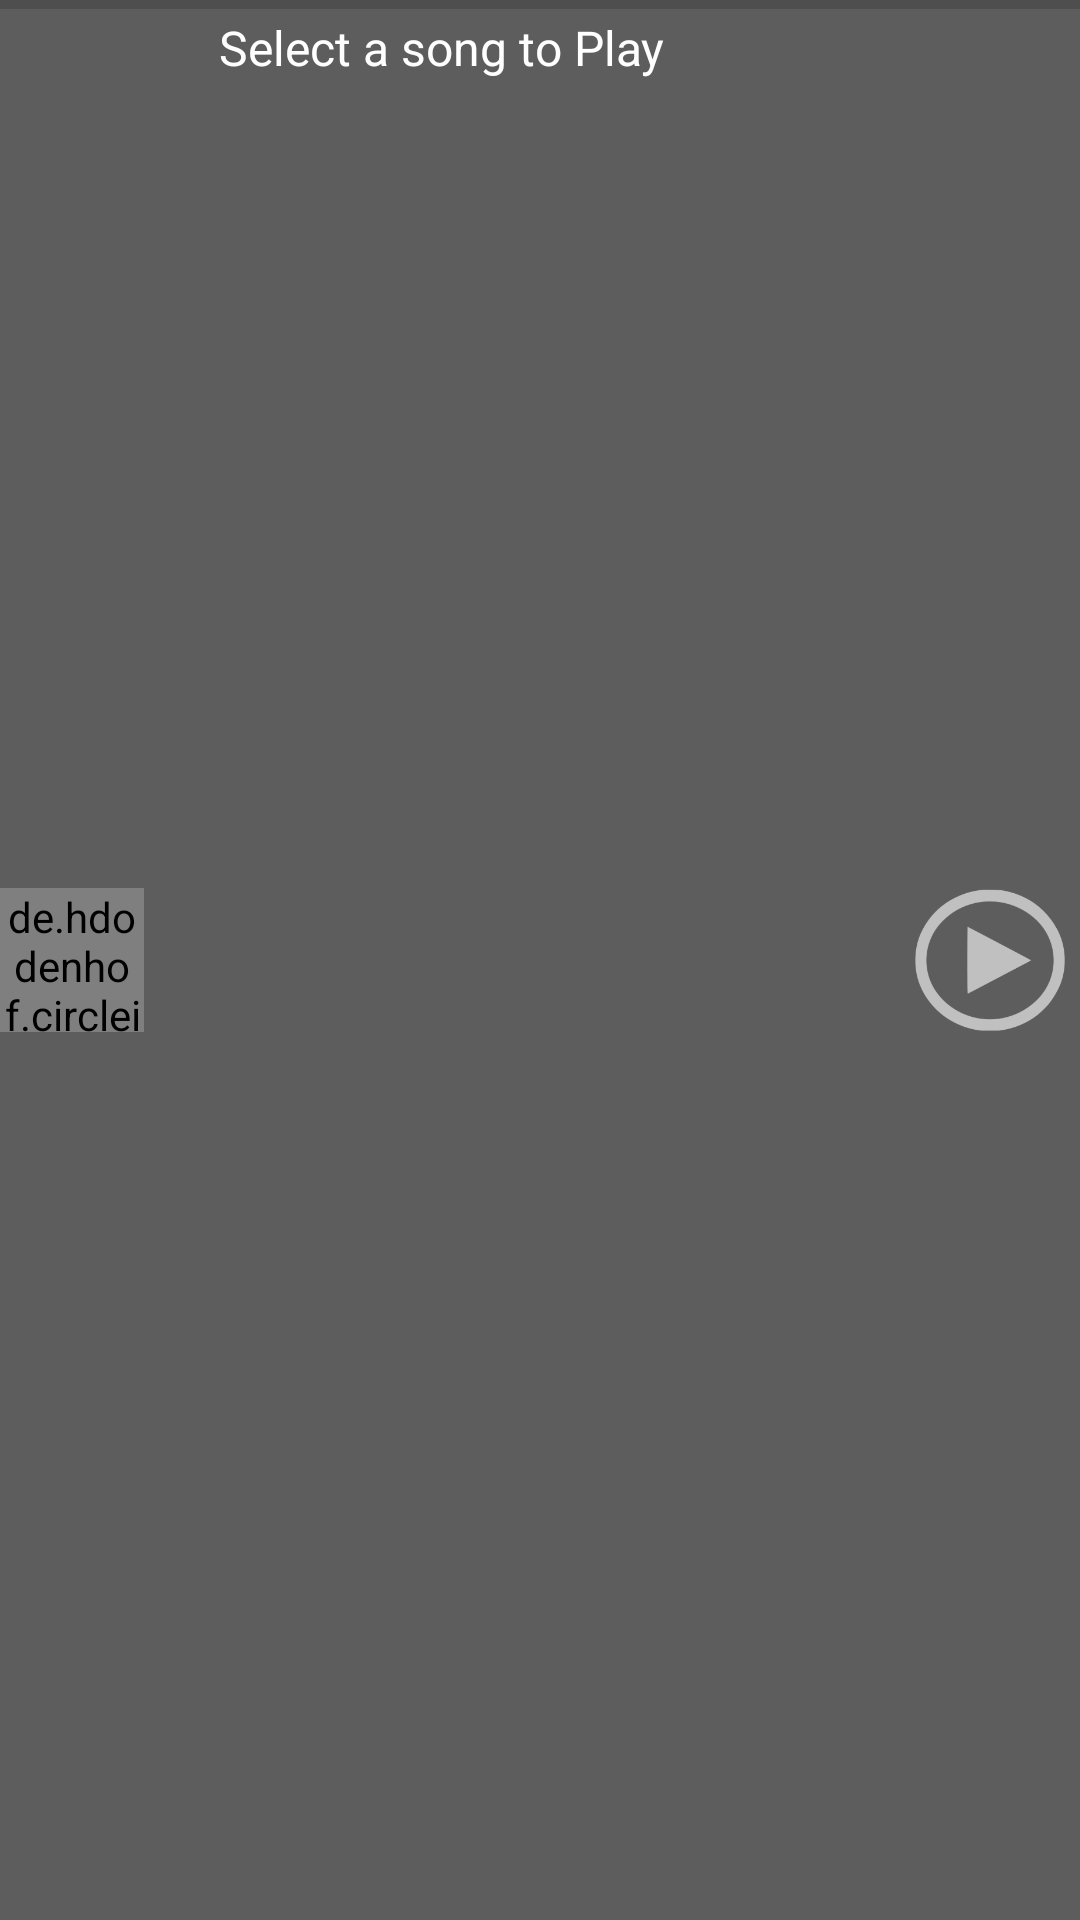

Icons on this 1080 × 1920 Android screen, each with the point to tap as (x=x, y=y):
play: (x=990, y=960)
